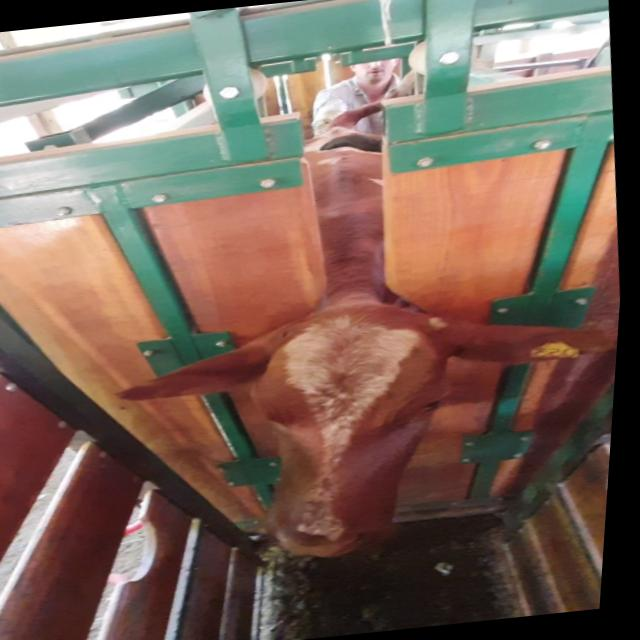cowFace: (239, 292, 481, 562)
